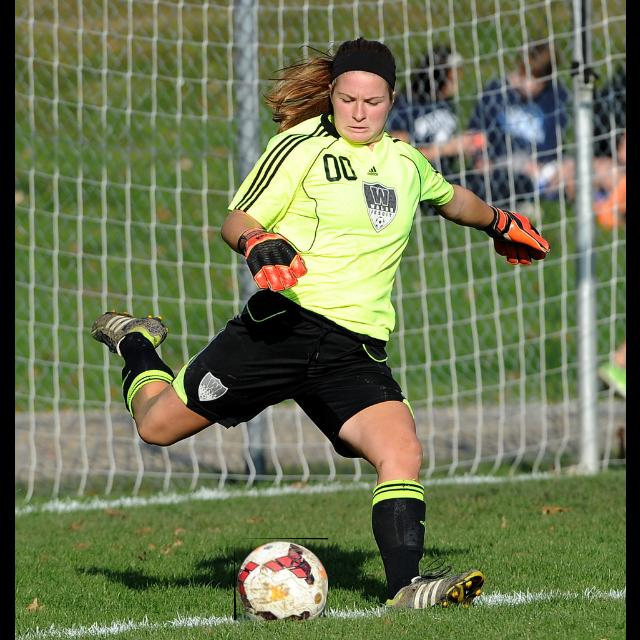Football: (234, 538, 328, 620)
